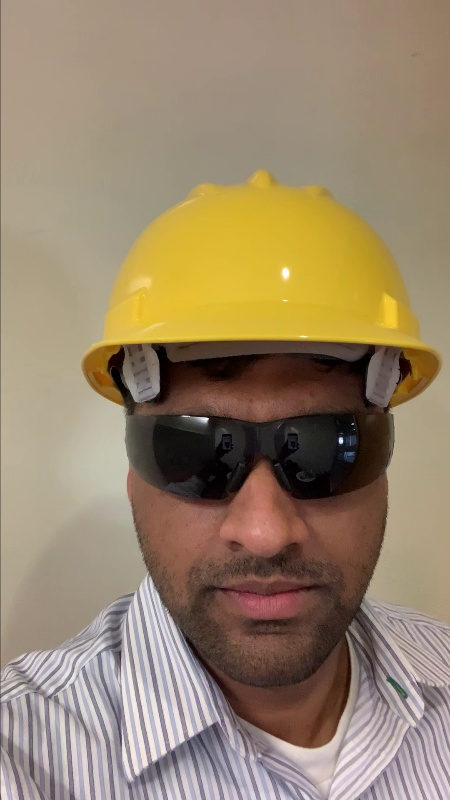glasses: (121, 409, 394, 503)
helmet: (75, 169, 450, 408)
